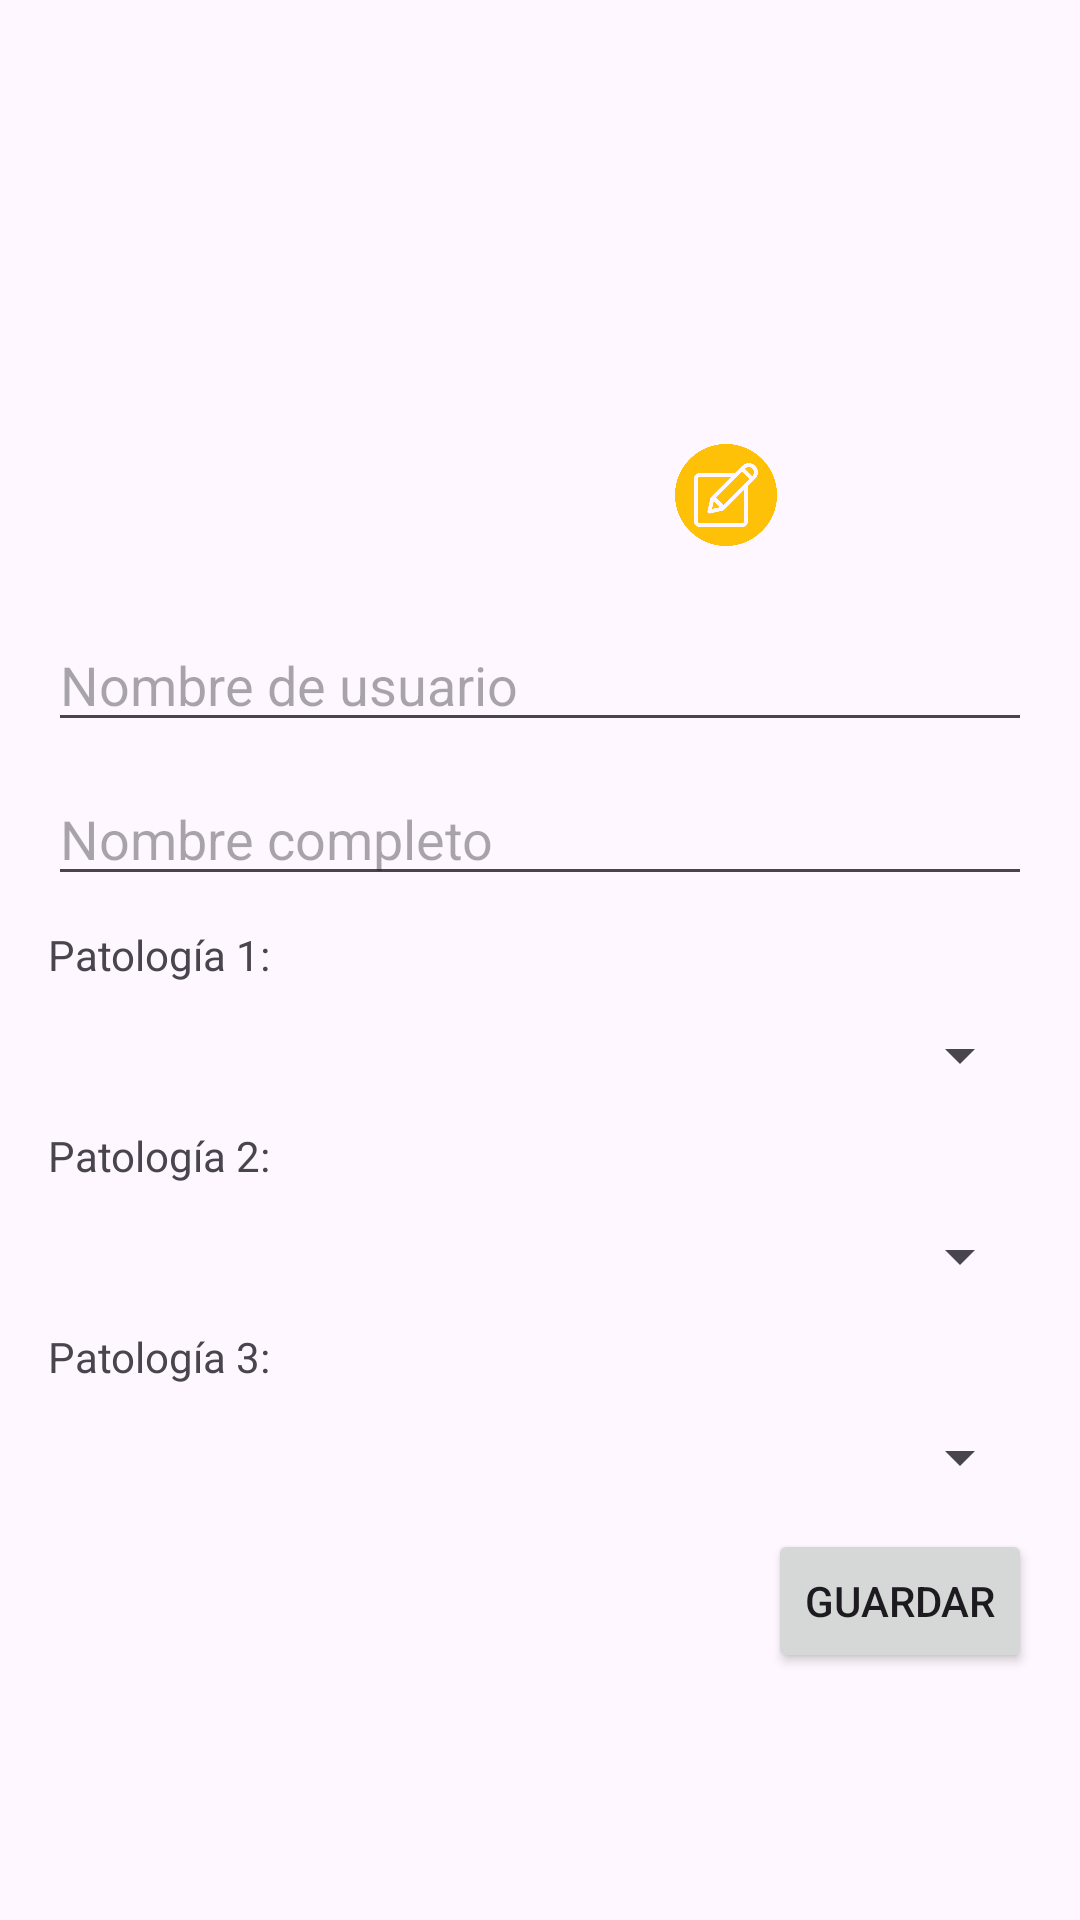

Icon bounding boxes for this 1080 x 1920 phone screenshot, format box=[x1, y1, x2, y2]:
edit: box=[675, 444, 777, 546]
